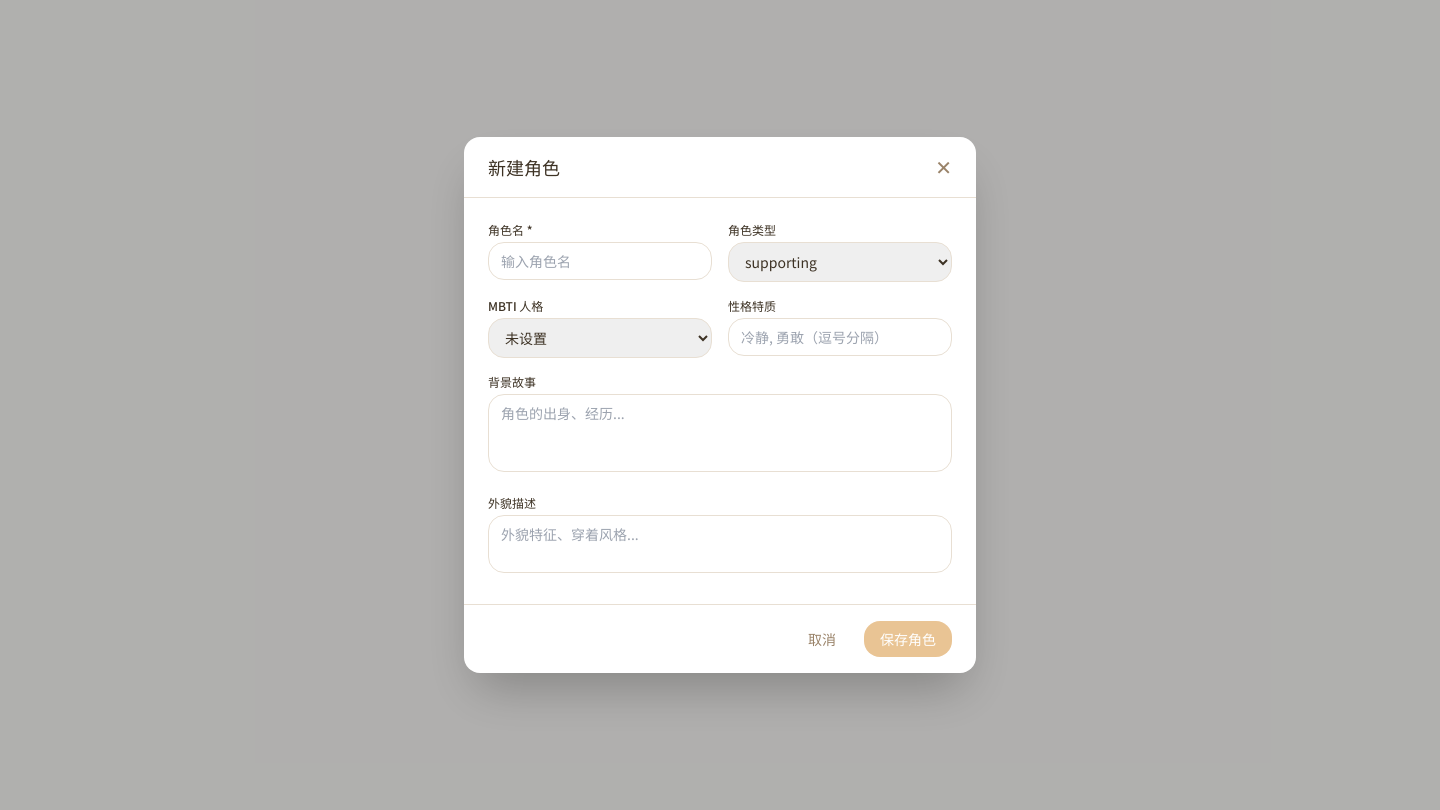
CharacterForm › should enable save when name is filled
This screenshot has width=1440, height=810.
Type "张三" into the field with placeholder "输入角色名" at (600, 261), box [488, 242, 712, 280]
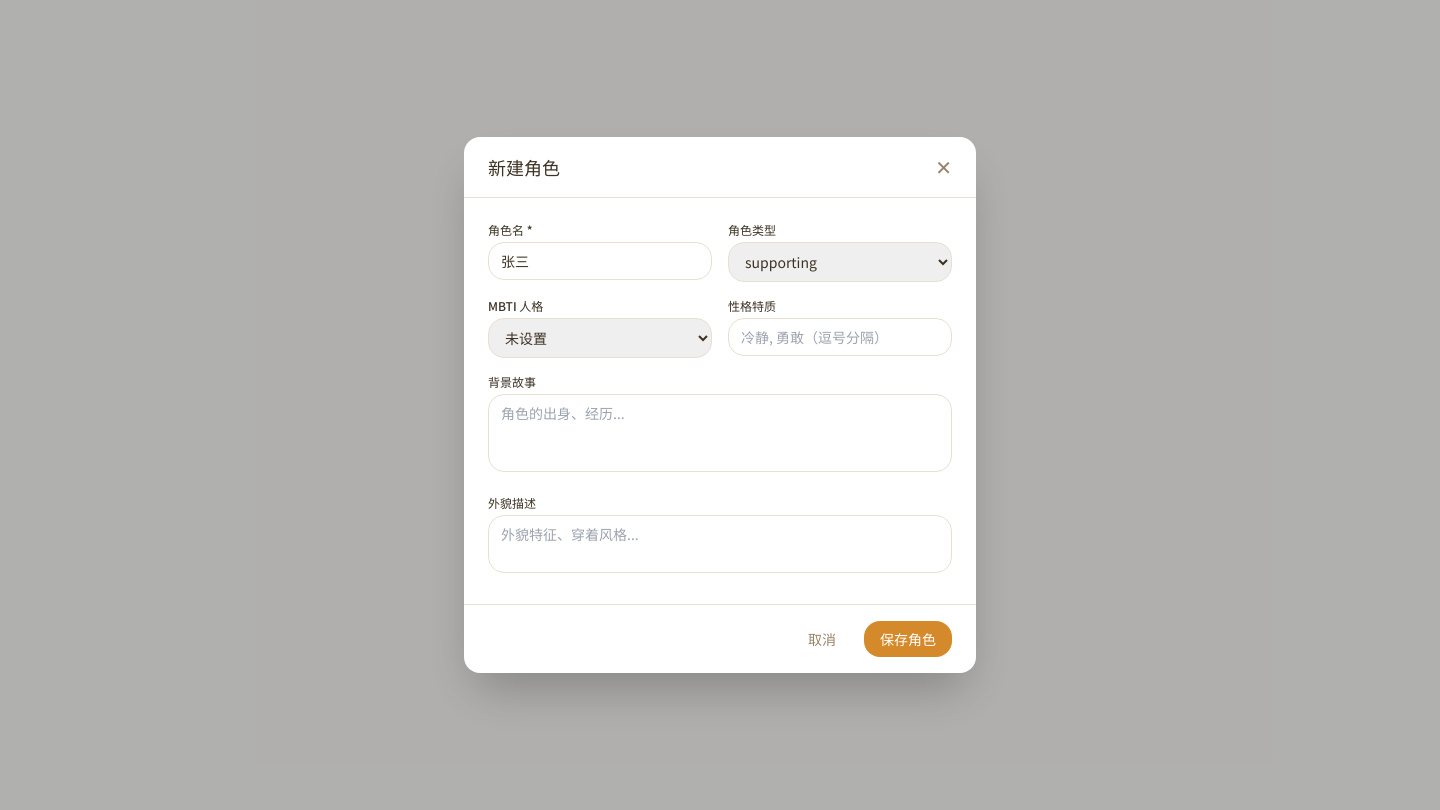
Expected: the button "保存角色" is enabled, [864, 621, 952, 657]
